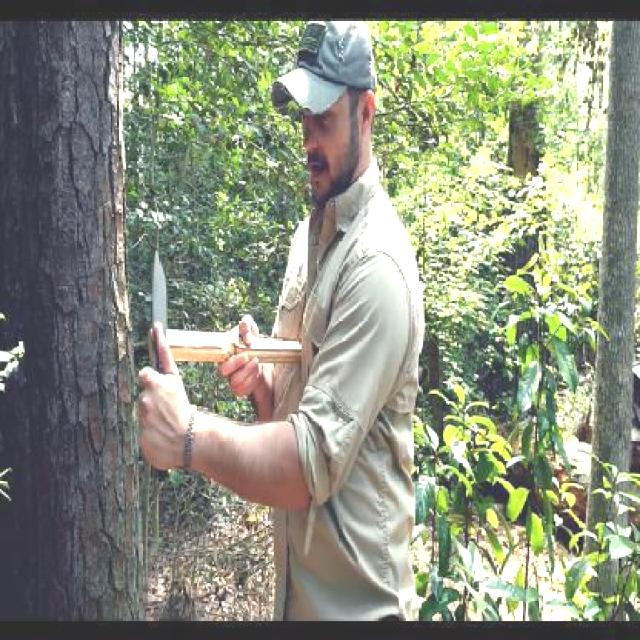knife: (134, 243, 181, 457)
